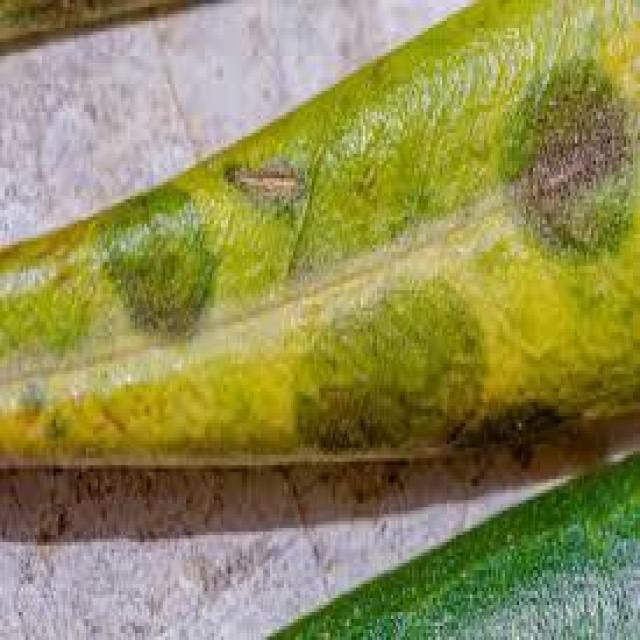OlivePeacockSpot: (0, 0, 638, 451)
